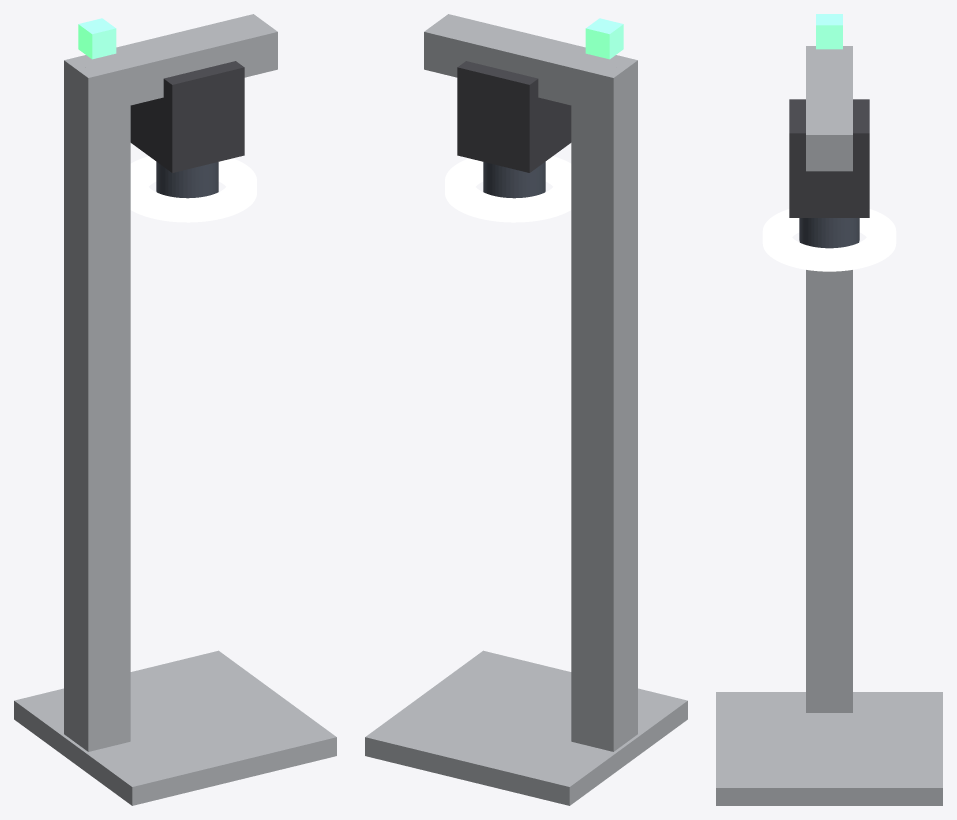
The model's file is vision_station.glb.
The picture shows the model from 3 angles, left to right: view 1: azimuth 30°, elevation 25°; view 2: azimuth 150°, elevation 25°; view 3: azimuth 270°, elevation 25°; orthographic projection. The views are drawn at different scales.
Parts seen in each view (by area): view 1: Post, Base, Camera_Body, Boom, Ring_Light, Lens, Status_Light; view 2: Post, Base, Camera_Body, Boom, Ring_Light, Lens, Status_Light; view 3: Base, Post, Camera_Body, Boom, Ring_Light, Lens, Status_Light.
Part boxes in pixels (bbox=[...]): Post: bbox=[64, 58, 130, 751]; Base: bbox=[14, 650, 336, 805]; Camera_Body: bbox=[130, 61, 244, 172]; Boom: bbox=[73, 14, 277, 105]; Ring_Light: bbox=[130, 156, 256, 222]; Lens: bbox=[156, 162, 218, 198]; Status_Light: bbox=[78, 18, 116, 59]; Post: bbox=[571, 58, 637, 751]; Base: bbox=[365, 650, 687, 805]; Camera_Body: bbox=[457, 61, 571, 172]; Boom: bbox=[424, 14, 628, 113]; Ring_Light: bbox=[445, 156, 571, 222]; Lens: bbox=[483, 162, 545, 198]; Status_Light: bbox=[585, 18, 623, 59]; Base: bbox=[716, 692, 942, 805]; Post: bbox=[806, 46, 852, 712]; Camera_Body: bbox=[789, 99, 869, 217]; Boom: bbox=[806, 50, 852, 171]; Ring_Light: bbox=[762, 209, 896, 271]; Lens: bbox=[799, 218, 859, 248]; Status_Light: bbox=[816, 14, 842, 49].
Bounding box in the file's own units: 0.3517 × 1.2 × 0.3517.
